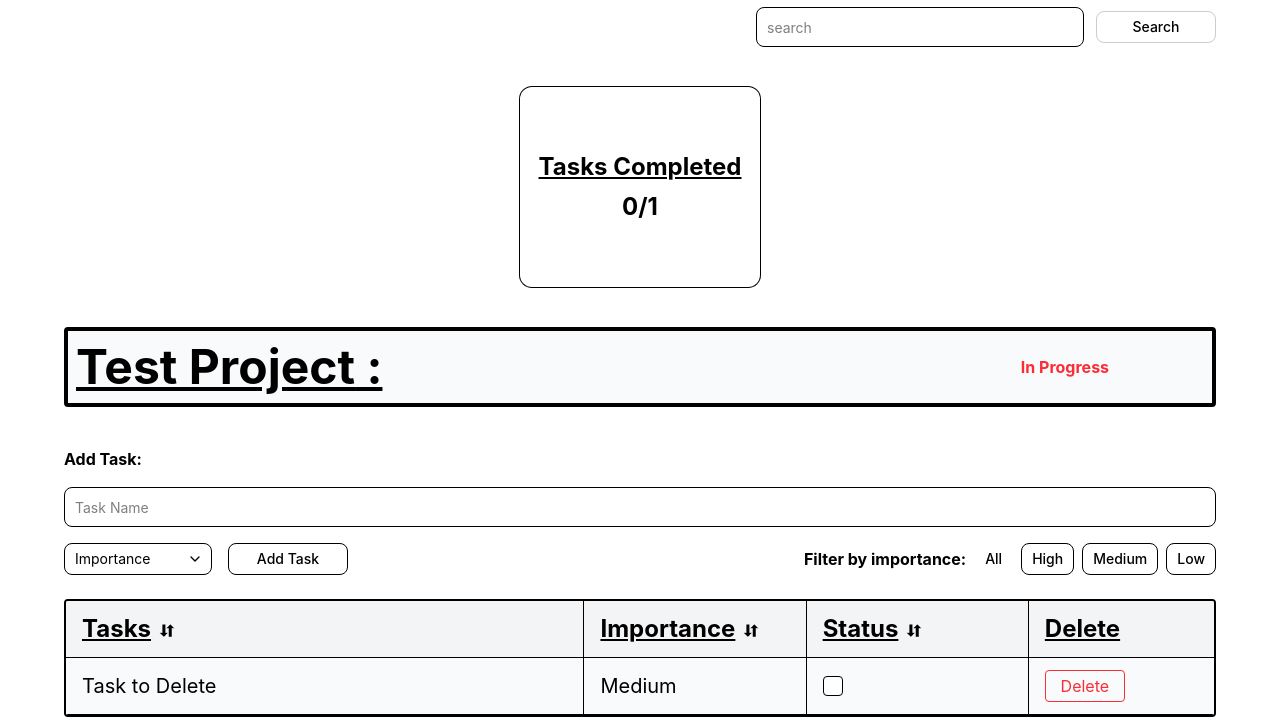
Test: ProjectTaskPage - Add Task › deletes a task when delete button is clicked
The width and height of the screenshot is (1280, 717).
(page scrolled)
Click the button "Delete": (1085, 686) [1045, 670, 1125, 702]
(page scrolled)
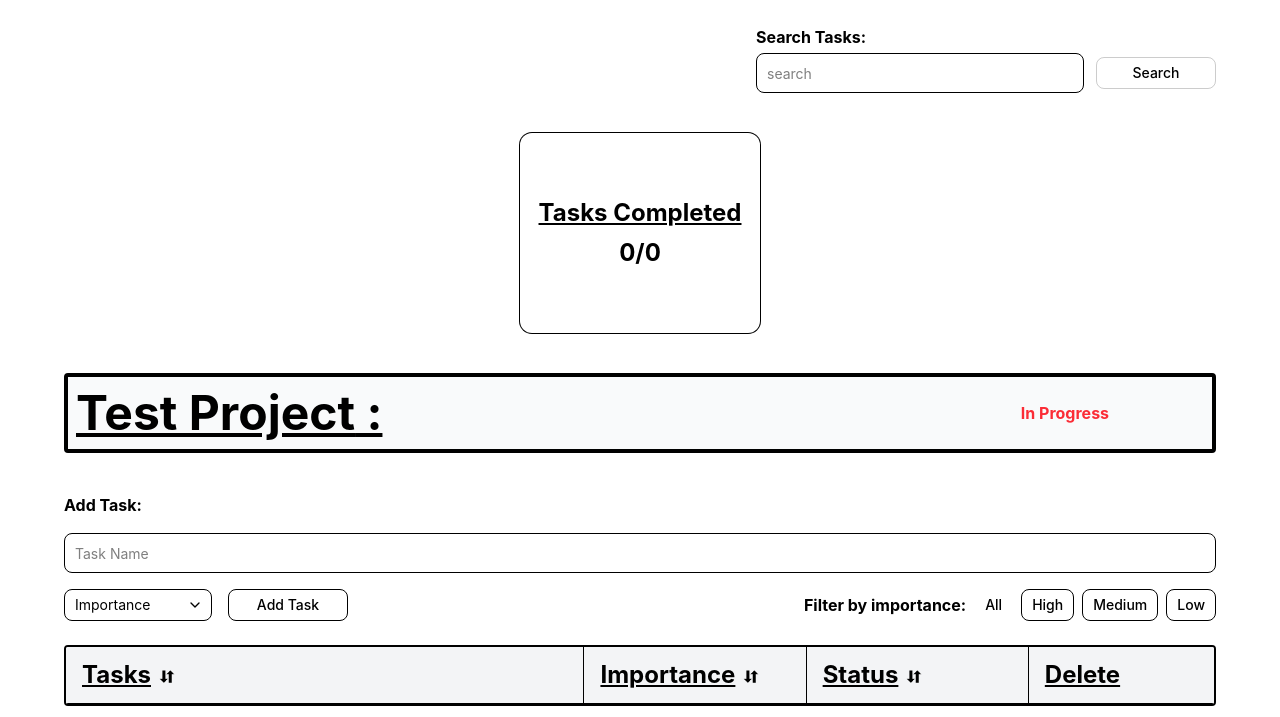
Expected: the text "Task to Delete" is gone
